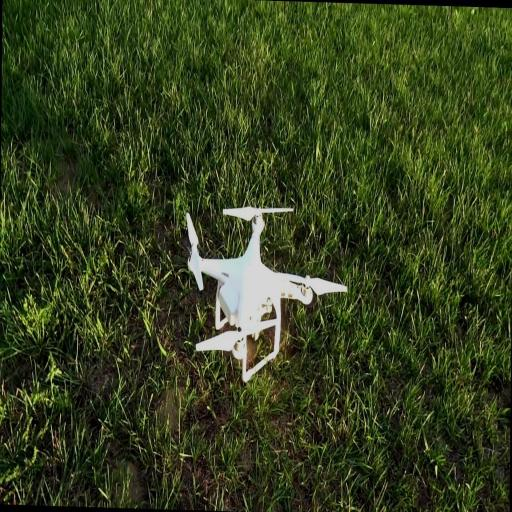drone: (185, 206, 350, 384)
